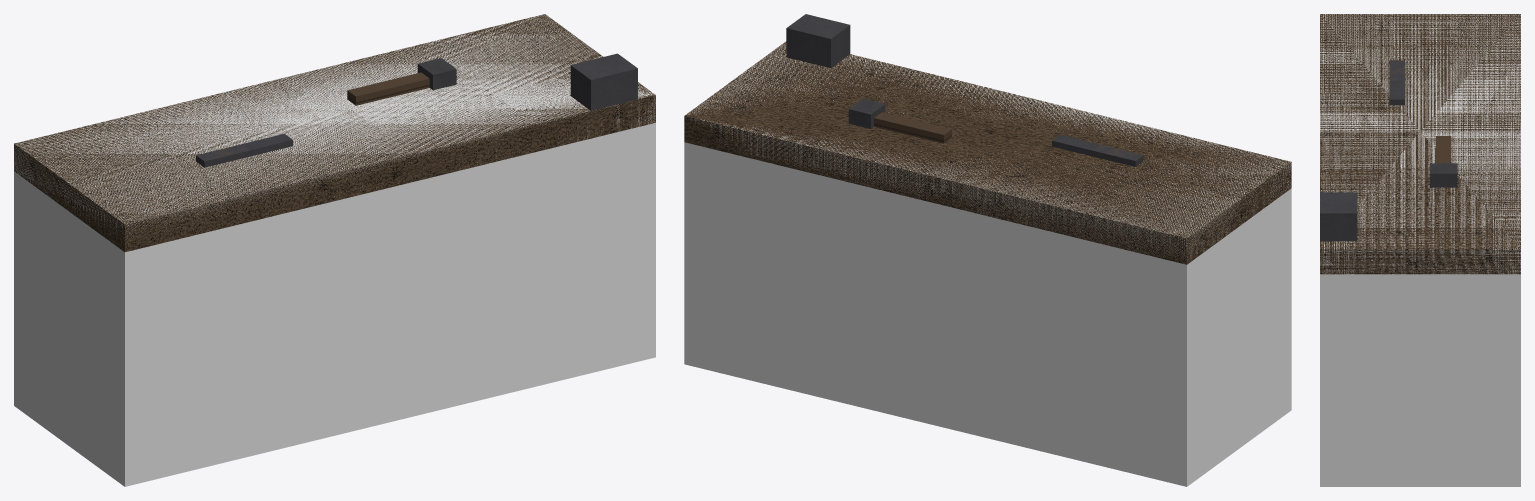
File: workbench.glb
3 views of the same model, side by side, from view 1: azimuth 30°, elevation 25°; view 2: azimuth 150°, elevation 25°; view 3: azimuth 270°, elevation 25° (orthographic). The views are drawn at different scales.
Parts seen in each view (by area): view 1: COL_HULL_bench, workbench; view 2: COL_HULL_bench, workbench; view 3: COL_HULL_bench, workbench.
Part boxes in pixels (left/top/right/bottom): COL_HULL_bench: left=14, top=14, right=655, bottom=486; workbench: left=14, top=14, right=655, bottom=252; COL_HULL_bench: left=684, top=41, right=1291, bottom=486; workbench: left=684, top=14, right=1291, bottom=264; COL_HULL_bench: left=1320, top=14, right=1520, bottom=486; workbench: left=1320, top=14, right=1520, bottom=274.
Size of the model in its own units: 1.8 by 0.95 by 0.65.
Materials: 3 (3 with a texture image).
